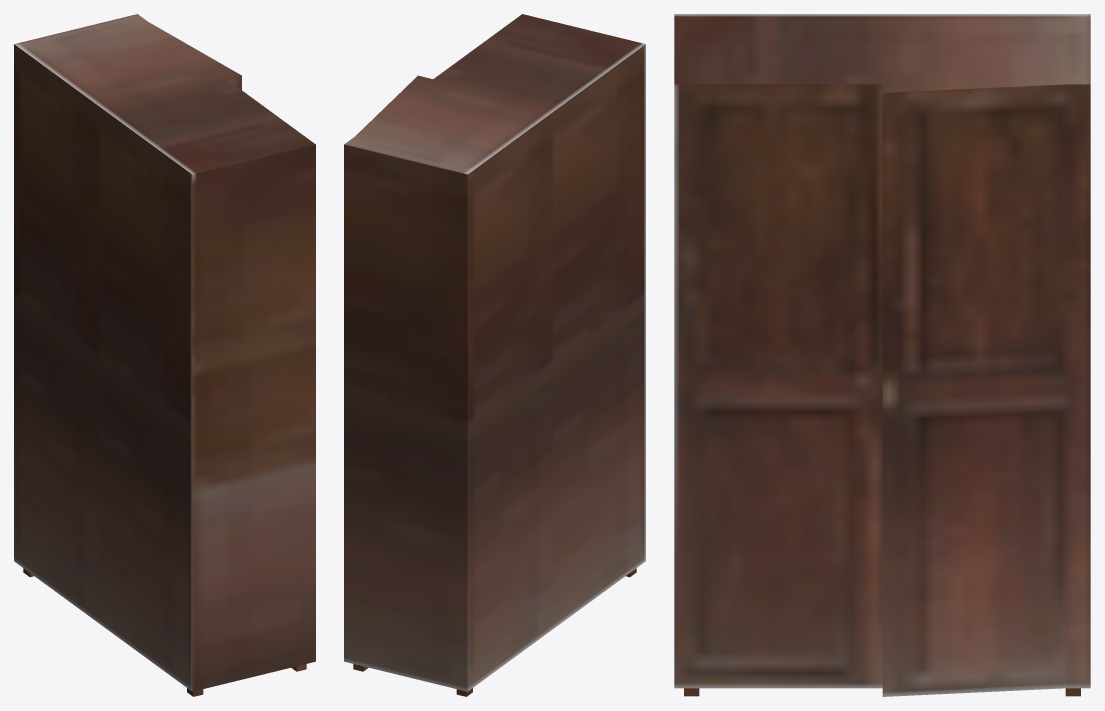
Rendered from closet.fbx.
3 views of the same model, side by side, from view 1: azimuth 30°, elevation 25°; view 2: azimuth 150°, elevation 25°; view 3: azimuth 270°, elevation 25° (orthographic). The views are drawn at different scales.
Parts seen in each view (by area): view 1: Cube; view 2: Cube; view 3: Cube.
Boxes of the visible parts, x1,y1,x2,y2 form: Cube: (14, 14, 315, 696); Cube: (344, 14, 645, 696); Cube: (674, 14, 1090, 696).
Size of the model in its own units: 225 by 815 by 500.
